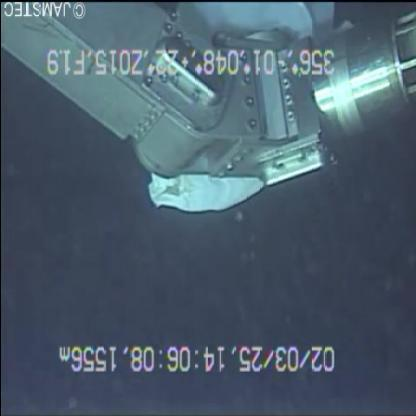Rov: (1, 1, 415, 197)
Rác: (138, 133, 276, 237)
